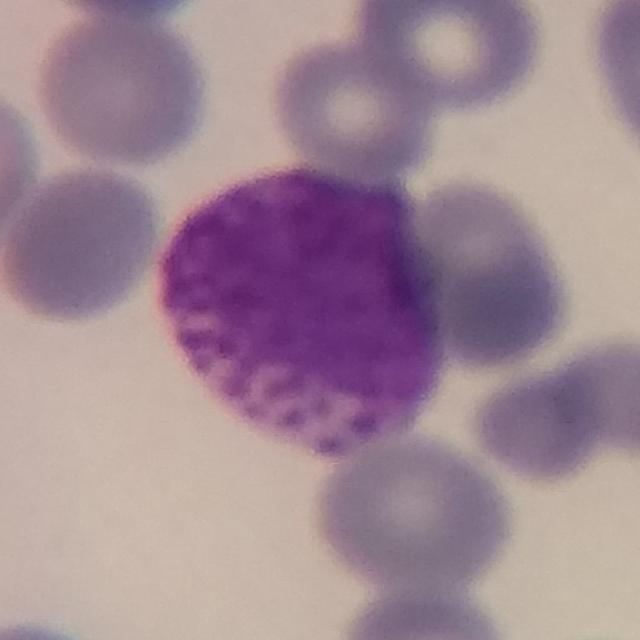baso: (152, 160, 452, 461)
